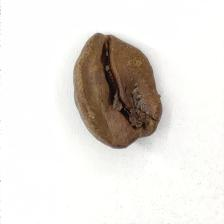NG: (94, 37, 164, 134)
